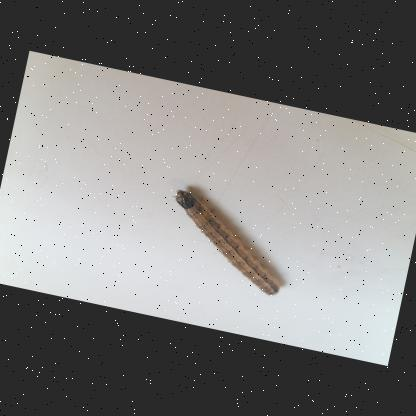Fall Armyworm Larvae: (153, 180, 299, 298)
